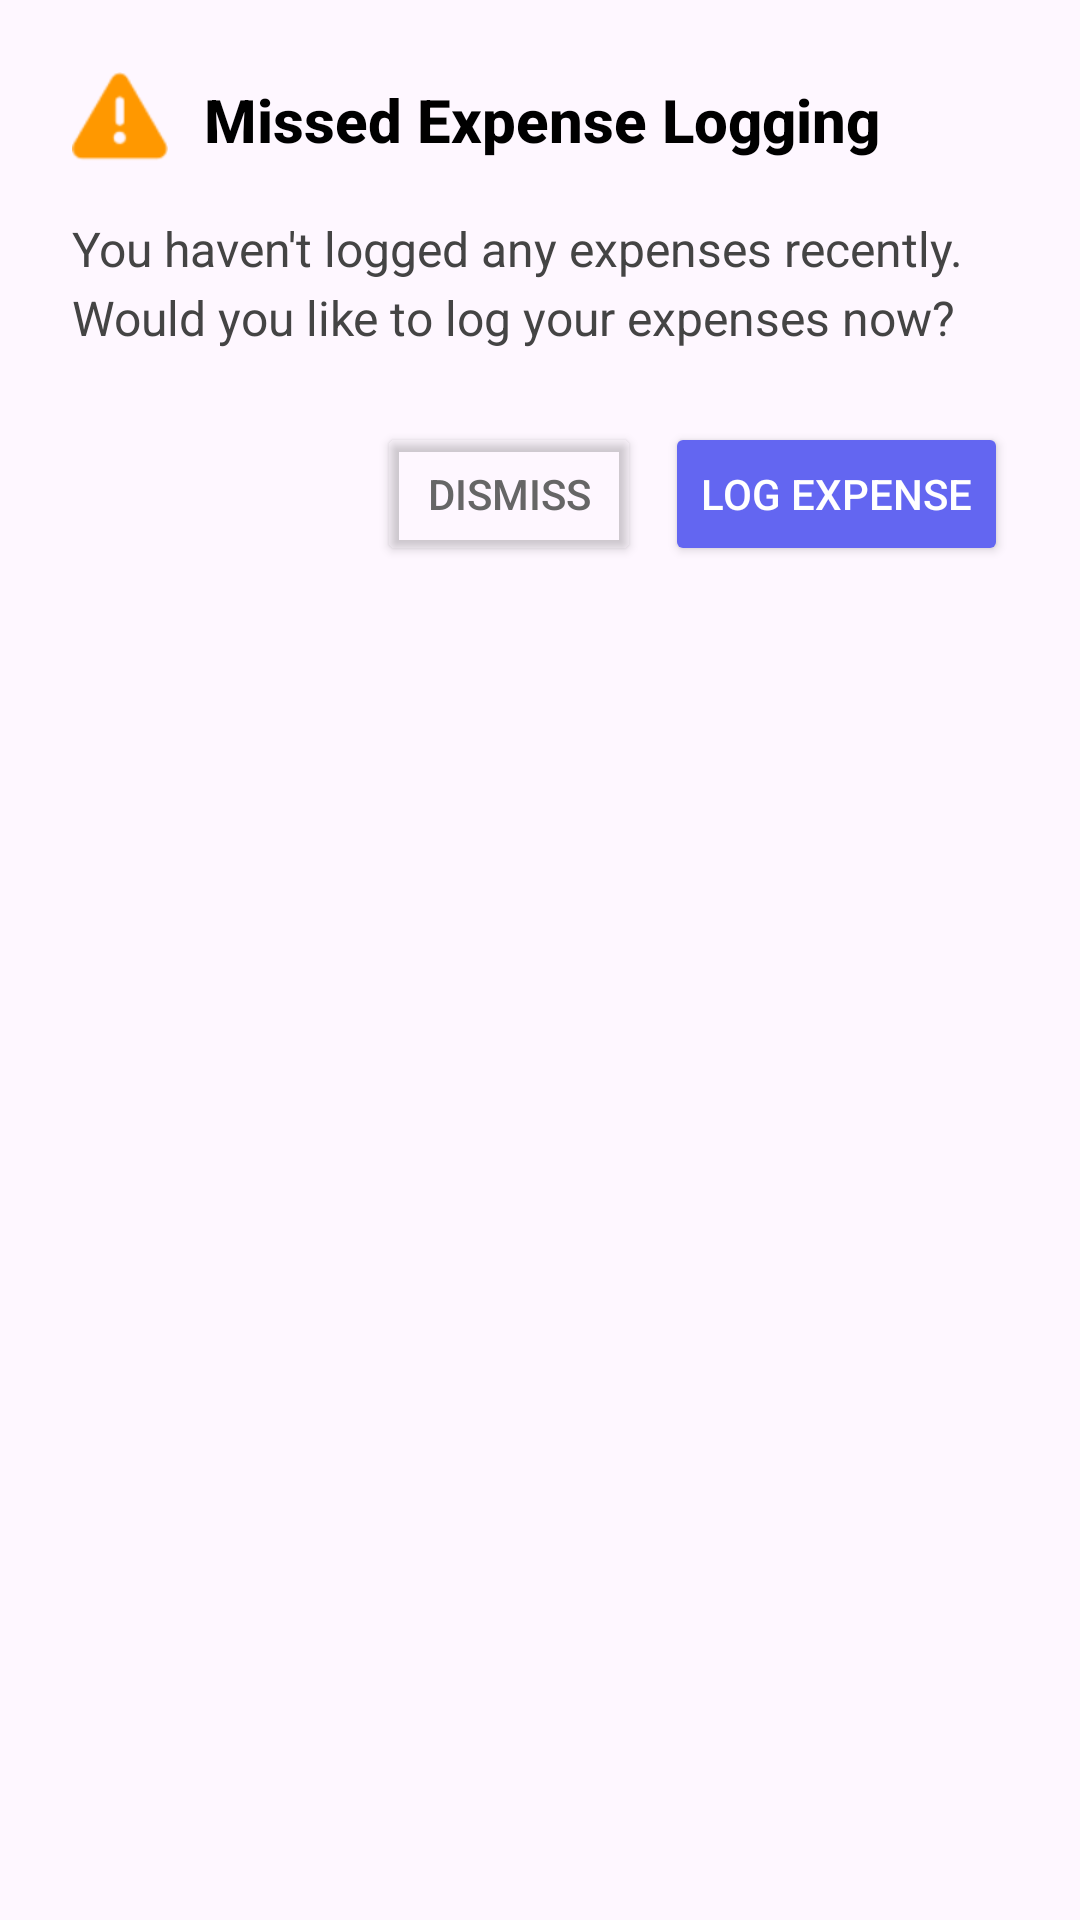

Icon bounding boxes for this 1080×1920 phone screenshot, format (x1, y1, x2, y2):
alert: (72, 72, 168, 160)
